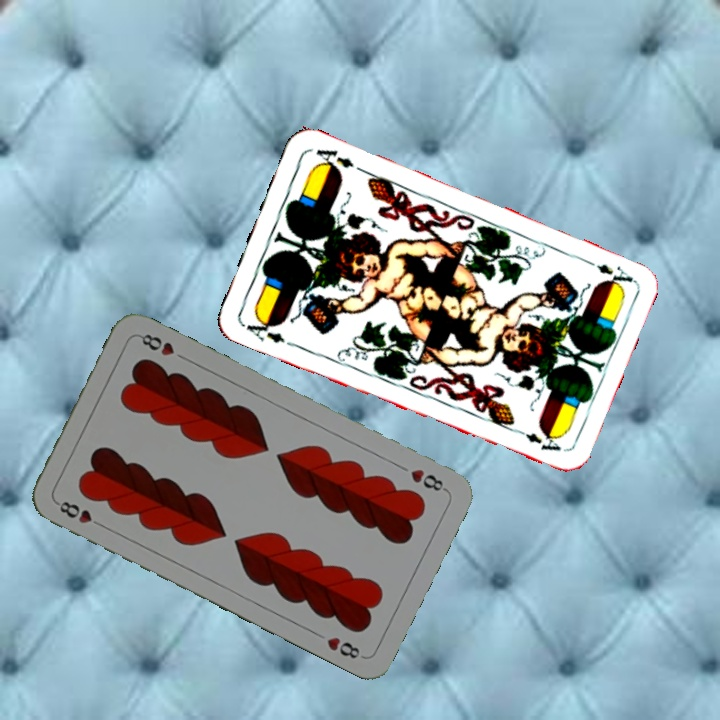EA: (578, 254, 635, 292), (238, 312, 288, 346)
H8: (52, 497, 107, 530), (406, 465, 450, 494)
